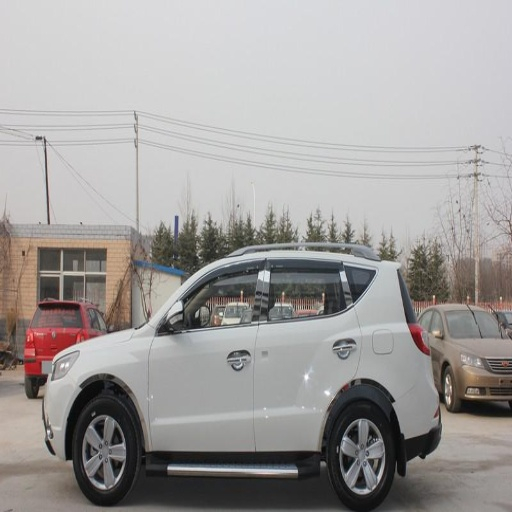back_left_door: (254, 255, 360, 448)
front_left_door: (149, 256, 267, 447)
